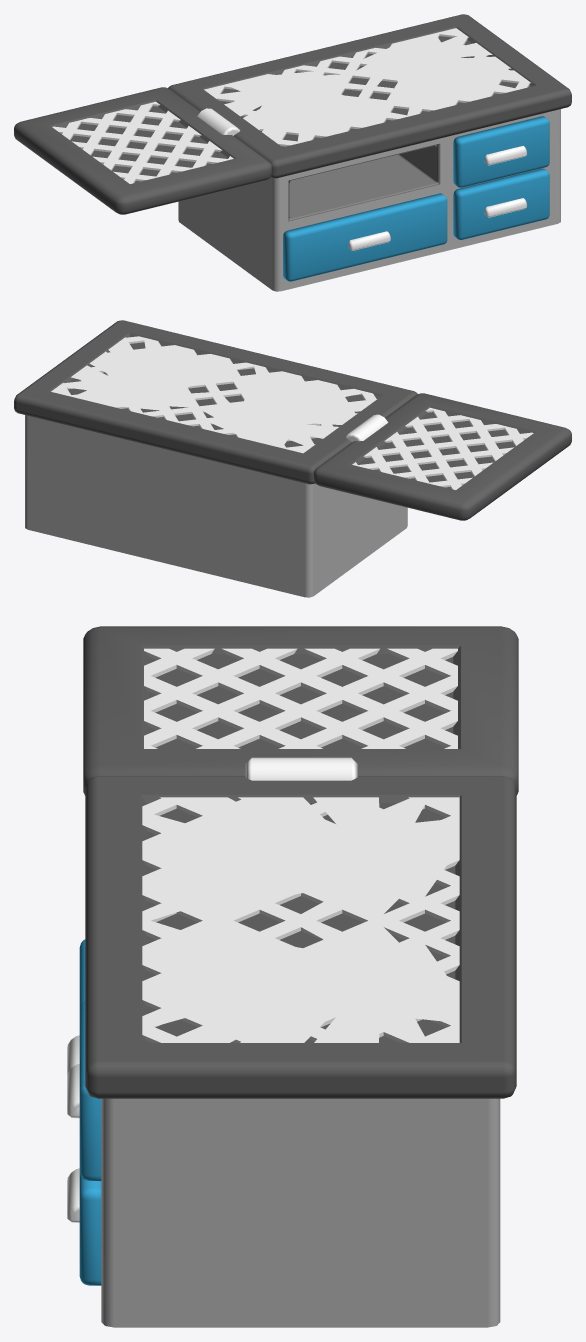
The model's file is Working_Table.fbx.
3 renders of one model, top to bottom at view 1: azimuth 30°, elevation 25°; view 2: azimuth 150°, elevation 25°; view 3: azimuth 270°, elevation 25°, orthographic. The views are drawn at different scales.
Visible parts, largest first — view 1: Working Table, Cylinder.004; view 2: Working Table, Cylinder.004; view 3: Working Table, Cylinder.004.
Part boxes in pixels (bbox=[...]): Working Table: bbox=[168, 14, 571, 291]; Cylinder.004: bbox=[14, 87, 271, 214]; Working Table: bbox=[14, 320, 417, 597]; Cylinder.004: bbox=[314, 393, 571, 520]; Working Table: bbox=[67, 776, 516, 1327]; Cylinder.004: bbox=[83, 626, 518, 795].
Size of the model in its own units: 119 by 34.89 by 50.91.
